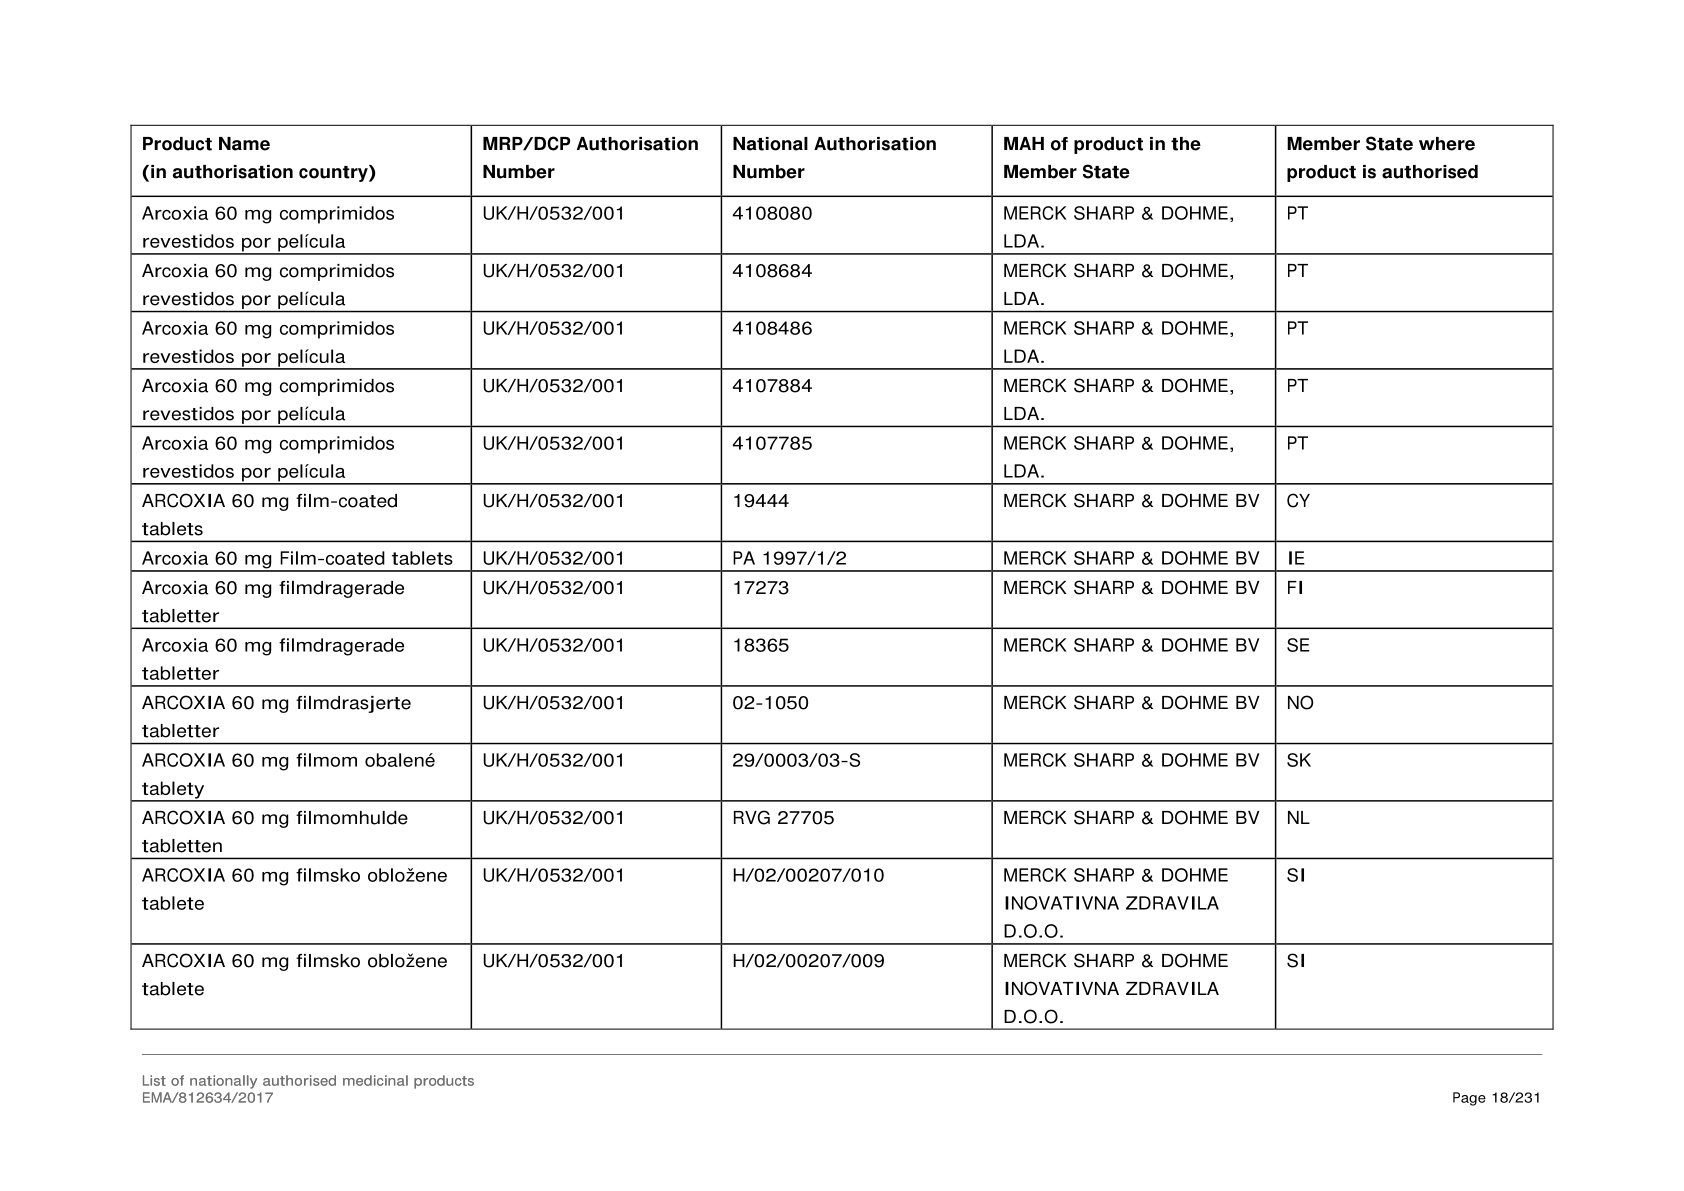full_lined: (129, 124, 1554, 1030)
